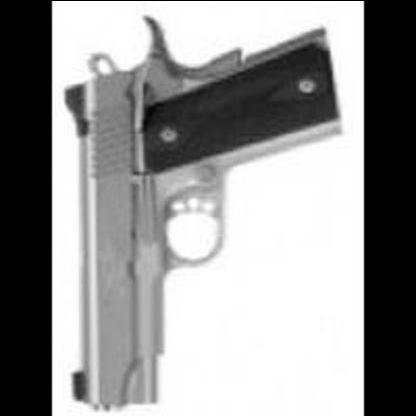weapon: (53, 11, 347, 412)
